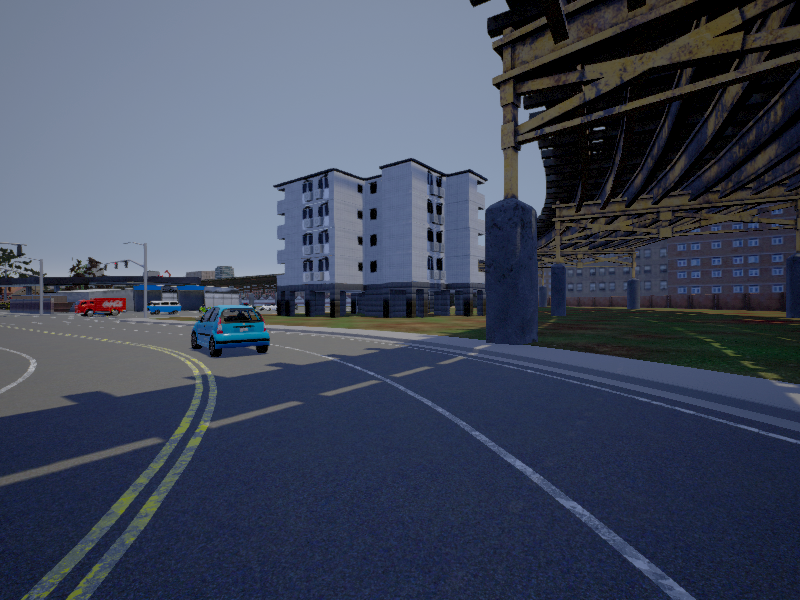Benign: (191, 304, 270, 358), (77, 298, 131, 314), (147, 300, 184, 315)
